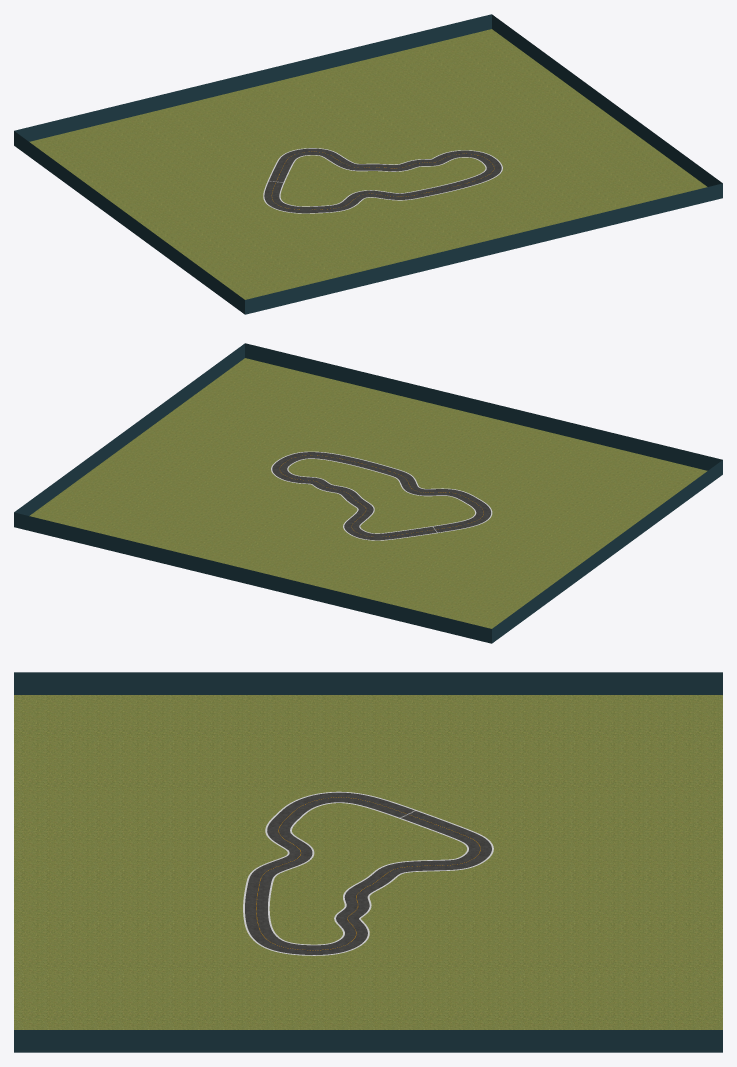
File: AmericasGeneratedInclStart.dae
The picture shows the model from 3 angles, top to bottom: view 1: azimuth 30°, elevation 25°; view 2: azimuth 150°, elevation 25°; view 3: azimuth 270°, elevation 25°; orthographic projection. The views are drawn at different scales.
Parts seen in each view (by area): view 1: field, wall, road, ol, il; view 2: field, wall, road, ol, il; view 3: field, wall, road, ol, il.
Part boxes in pixels (bbox=[...]): field: bbox=[29, 29, 707, 299]; wall: bbox=[14, 14, 722, 314]; road: bbox=[264, 148, 501, 213]; ol: bbox=[263, 148, 502, 213]; il: bbox=[279, 155, 486, 206]; field: bbox=[29, 358, 707, 628]; wall: bbox=[14, 343, 722, 643]; road: bbox=[272, 452, 490, 540]; ol: bbox=[271, 451, 492, 540]; il: bbox=[287, 458, 476, 533]; field: bbox=[14, 695, 722, 1029]; wall: bbox=[14, 672, 722, 1052]; road: bbox=[245, 792, 491, 955]; ol: bbox=[243, 791, 493, 955]; il: bbox=[268, 802, 468, 945].
Bounding box in the file's own units: 33.77 × 28.29 × 1.
7 materials, 7 textured.
